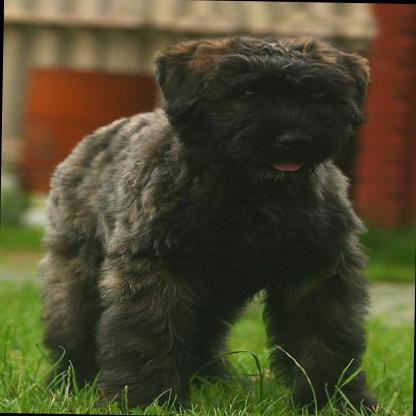Bouvier_des_Flandres: (31, 27, 385, 416)
